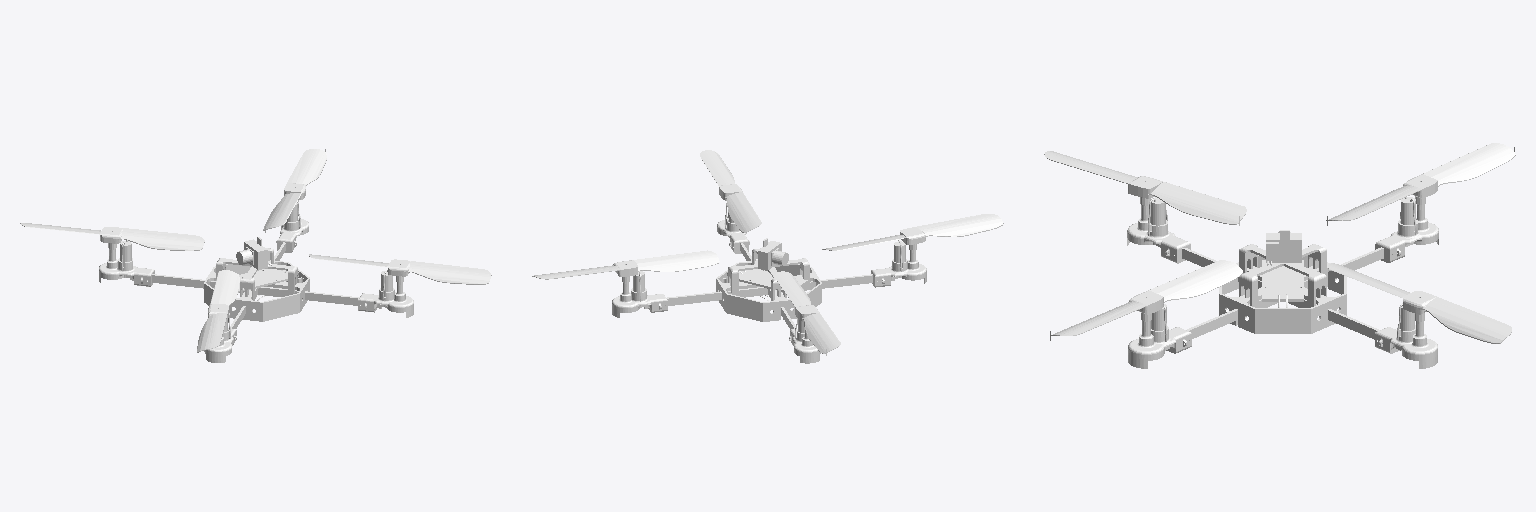
robot.urdf — QuadCam:
<?xml version="1.0" encoding="utf-8"?>
<!-- This URDF was automatically created by SolidWorks to URDF Exporter! Originally created by [author] ([email redacted]) 
     Commit Version: 1.6.0-4-g7f85cfe  Build Version: 1.6.7995.38578
     For more information, please see http://wiki.ros.org/sw_urdf_exporter -->
<robot
  name="QuadCam">
  <link
    name="base_link">
    <inertial>
      <origin
        xyz="7.84E-05 0.013955 -4.8602E-05"
        rpy="0 0 0" />
      <mass
        value="0.061885" />
      <inertia
        ixx="1.9641E-05"
        ixy="4.507E-08"
        ixz="1.4041E-08"
        iyy="3.9818E-05"
        iyz="3.2434E-11"
        izz="2.2177E-05" />
    </inertial>
    <visual>
      <origin
        xyz="0 0 0"
        rpy="0 0 0" />
      <geometry>
        <mesh
          filename="package://QuadCam/meshes/base_link.STL" />
      </geometry>
      <material
        name="">
        <color
          rgba="1 1 1 1" />
      </material>
    </visual>
    <collision>
      <origin
        xyz="0 0 0"
        rpy="0 0 0" />
      <geometry>
        <mesh
          filename="package://QuadCam/meshes/base_link.STL" />
      </geometry>
    </collision>
  </link>
  <link
    name="FL">
    <inertial>
      <origin
        xyz="-0.00065367 0.0099823 0.00011746"
        rpy="0 0 0" />
      <mass
        value="0.0021617" />
      <inertia
        ixx="5.3596E-08"
        ixy="1.0668E-08"
        ixz="-6.4419E-08"
        iyy="1.4407E-06"
        iyz="-2.8266E-10"
        izz="1.4128E-06" />
    </inertial>
    <visual>
      <origin
        xyz="0 0 0"
        rpy="0 0 0" />
      <geometry>
        <mesh
          filename="package://QuadCam/meshes/FL.STL" />
      </geometry>
      <material
        name="">
        <color
          rgba="1 1 1 1" />
      </material>
    </visual>
    <collision>
      <origin
        xyz="0 0 0"
        rpy="0 0 0" />
      <geometry>
        <mesh
          filename="package://QuadCam/meshes/FL.STL" />
      </geometry>
    </collision>
  </link>
  <joint
    name="FL"
    type="continuous">
    <origin
      xyz="0.074799 0.074799 0.0275"
      rpy="1.5708 0 -2.3233" />
    <parent
      link="base_link" />
    <child
      link="FL" />
    <axis
      xyz="0 1 0" />
  </joint>
  <link
    name="FR">
    <inertial>
      <origin
        xyz="-0.00065367 0.0099823 0.00011746"
        rpy="0 0 0" />
      <mass
        value="0.0021617" />
      <inertia
        ixx="5.3596E-08"
        ixy="1.0668E-08"
        ixz="-6.4419E-08"
        iyy="1.4407E-06"
        iyz="-2.8265E-10"
        izz="1.4128E-06" />
    </inertial>
    <visual>
      <origin
        xyz="0 0 0"
        rpy="0 0 0" />
      <geometry>
        <mesh
          filename="package://QuadCam/meshes/FR.STL" />
      </geometry>
      <material
        name="">
        <color
          rgba="1 1 1 1" />
      </material>
    </visual>
    <collision>
      <origin
        xyz="0 0 0"
        rpy="0 0 0" />
      <geometry>
        <mesh
          filename="package://QuadCam/meshes/FR.STL" />
      </geometry>
    </collision>
  </link>
  <joint
    name="FR"
    type="continuous">
    <origin
      xyz="0.074605 -0.074605 0.0274"
      rpy="1.5708 0 2.3545" />
    <parent
      link="base_link" />
    <child
      link="FR" />
    <axis
      xyz="0 -1 0" />
  </joint>
  <link
    name="BL">
    <inertial>
      <origin
        xyz="-0.00065367 0.0099823 0.00011746"
        rpy="0 0 0" />
      <mass
        value="0.0021617" />
      <inertia
        ixx="5.3596E-08"
        ixy="1.0668E-08"
        ixz="-6.4419E-08"
        iyy="1.4407E-06"
        iyz="-2.8266E-10"
        izz="1.4128E-06" />
    </inertial>
    <visual>
      <origin
        xyz="0 0 0"
        rpy="0 0 0" />
      <geometry>
        <mesh
          filename="package://QuadCam/meshes/BL.STL" />
      </geometry>
      <material
        name="">
        <color
          rgba="1 1 1 1" />
      </material>
    </visual>
    <collision>
      <origin
        xyz="0 0 0"
        rpy="0 0 0" />
      <geometry>
        <mesh
          filename="package://QuadCam/meshes/BL.STL" />
      </geometry>
    </collision>
  </link>
  <joint
    name="BL"
    type="continuous">
    <origin
      xyz="-0.075231 0.075231 0.0276"
      rpy="1.5708 0 2.3816" />
    <parent
      link="base_link" />
    <child
      link="BL" />
    <axis
      xyz="0 -1 0" />
  </joint>
  <link
    name="BR">
    <inertial>
      <origin
        xyz="-0.00065367 0.0099823 0.00011746"
        rpy="0 0 0" />
      <mass
        value="0.0021617" />
      <inertia
        ixx="5.3596E-08"
        ixy="1.0668E-08"
        ixz="-6.4419E-08"
        iyy="1.4407E-06"
        iyz="-2.8265E-10"
        izz="1.4128E-06" />
    </inertial>
    <visual>
      <origin
        xyz="0 0 0"
        rpy="0 0 0" />
      <geometry>
        <mesh
          filename="package://QuadCam/meshes/BR.STL" />
      </geometry>
      <material
        name="">
        <color
          rgba="1 1 1 1" />
      </material>
    </visual>
    <collision>
      <origin
        xyz="0 0 0"
        rpy="0 0 0" />
      <geometry>
        <mesh
          filename="package://QuadCam/meshes/BR.STL" />
      </geometry>
    </collision>
  </link>
  <joint
    name="BR"
    type="continuous">
    <origin
      xyz="-0.075037 -0.075037 0.0275"
      rpy="1.5708 0 0.94183" />
    <parent
      link="base_link" />
    <child
      link="BR" />
    <axis
      xyz="0 1 0" />
  </joint>
  <link
    name="Camera">
    <inertial>
      <origin
        xyz="0 0 0"
        rpy="0 0 0" />
      <mass
        value="0" />
      <inertia
        ixx="0"
        ixy="0"
        ixz="0"
        iyy="0"
        iyz="0"
        izz="0" />
    </inertial>
    <visual>
      <origin
        xyz="0 0 0"
        rpy="0 0 0" />
      <geometry>
        <mesh
          filename="package://QuadCam/meshes/Camera.STL" />
      </geometry>
      <material
        name="">
        <color
          rgba="1 1 1 1" />
      </material>
    </visual>
    <collision>
      <origin
        xyz="0 0 0"
        rpy="0 0 0" />
      <geometry>
        <mesh
          filename="package://QuadCam/meshes/Camera.STL" />
      </geometry>
    </collision>
  </link>
  <joint
    name="Camera"
    type="fixed">
    <origin
      xyz="0.0033168 0.00056082 0.0351"
      rpy="3.1416 0 -1.5708" />
    <parent
      link="base_link" />
    <child
      link="Camera" />
    <axis
      xyz="0 0 0" />
  </joint>
</robot>

--- What the picture shows (computed from the rendered views, not written in the file) ---
The picture shows the robot from 3 angles, left to right: view 1: azimuth 30°, elevation 25°; view 2: azimuth 150°, elevation 25°; view 3: azimuth 270°, elevation 25°; orthographic projection.
Robot: QuadCam — 6 links, 5 joints (4 continuous, 1 fixed); root link base_link; default pose: every joint at zero.
Visible links, largest first — view 1: base_link, BL, FR, FL, BR, Camera; view 2: base_link, FL, BR, BL, FR, Camera; view 3: base_link, BR, FR, BL, FL, Camera.
Link boxes in pixels (<box>): base_link: <box>99,186,413,362</box>; BL: <box>20,223,204,250</box>; FR: <box>309,254,491,284</box>; FL: <box>263,149,326,232</box>; BR: <box>197,270,239,352</box>; Camera: <box>236,237,271,269</box>; base_link: <box>612,187,926,363</box>; FL: <box>532,250,719,282</box>; BR: <box>822,214,1003,250</box>; BL: <box>774,271,840,355</box>; FR: <box>700,150,761,232</box>; Camera: <box>758,238,788,270</box>; base_link: <box>1127,180,1438,368</box>; BR: <box>1044,151,1246,225</box>; FR: <box>1050,260,1242,340</box>; BL: <box>1326,143,1515,225</box>; FL: <box>1328,263,1511,343</box>; Camera: <box>1266,230,1301,265</box>.
Bounding box of the posed robot: 0.2516 × 0.2572 × 0.0495 m (x, y, z).
6 mesh visuals loaded from 6 distinct referenced files (6 binary STL).